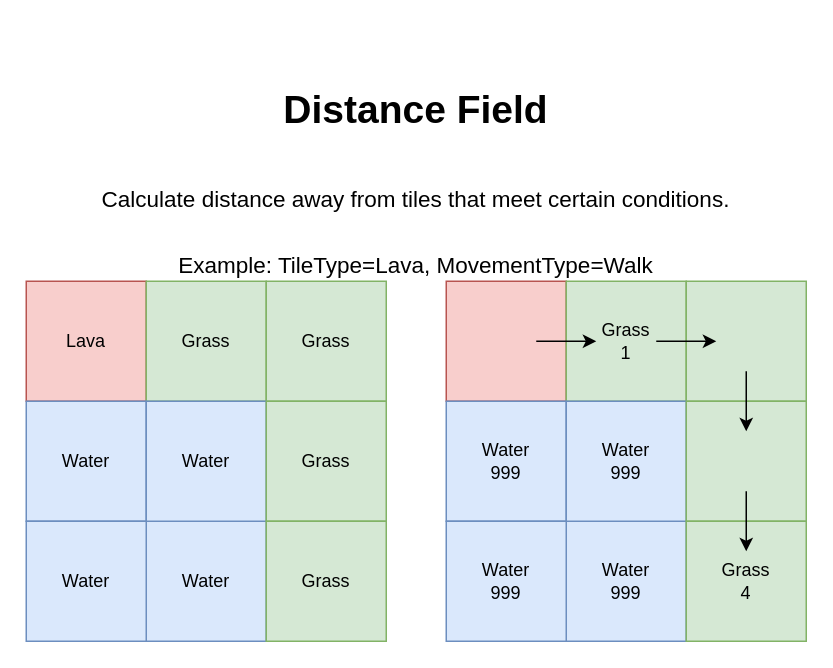
The diagram is 833 pixels wide and 668 high, and some of its shapes have lost their labels. Each missing label, with the centre of its shape:
Grass 2: (x=745, y=340)
Grass 3: (x=745, y=460)
Lava 0: (x=505, y=340)
